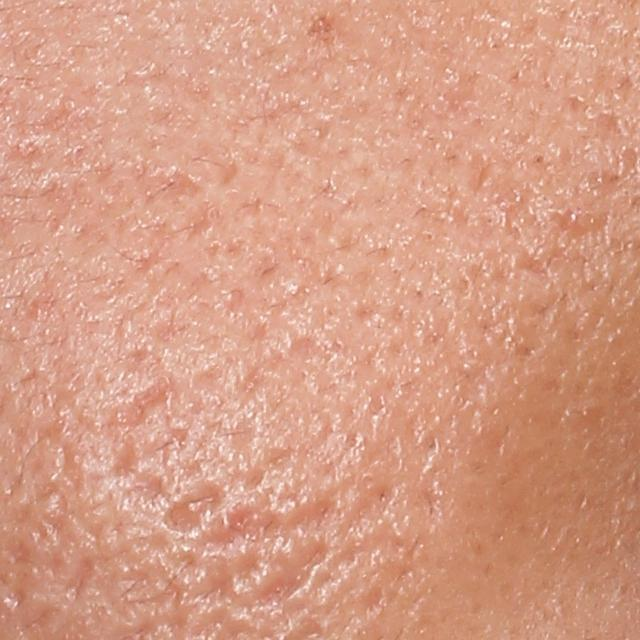atrophic_scar: (224, 541, 329, 620), (127, 159, 206, 221), (102, 371, 183, 429), (194, 506, 289, 549), (164, 479, 232, 538), (54, 545, 99, 617), (124, 465, 181, 519), (544, 202, 614, 244), (108, 431, 146, 482)
nevus: (299, 9, 339, 55)
